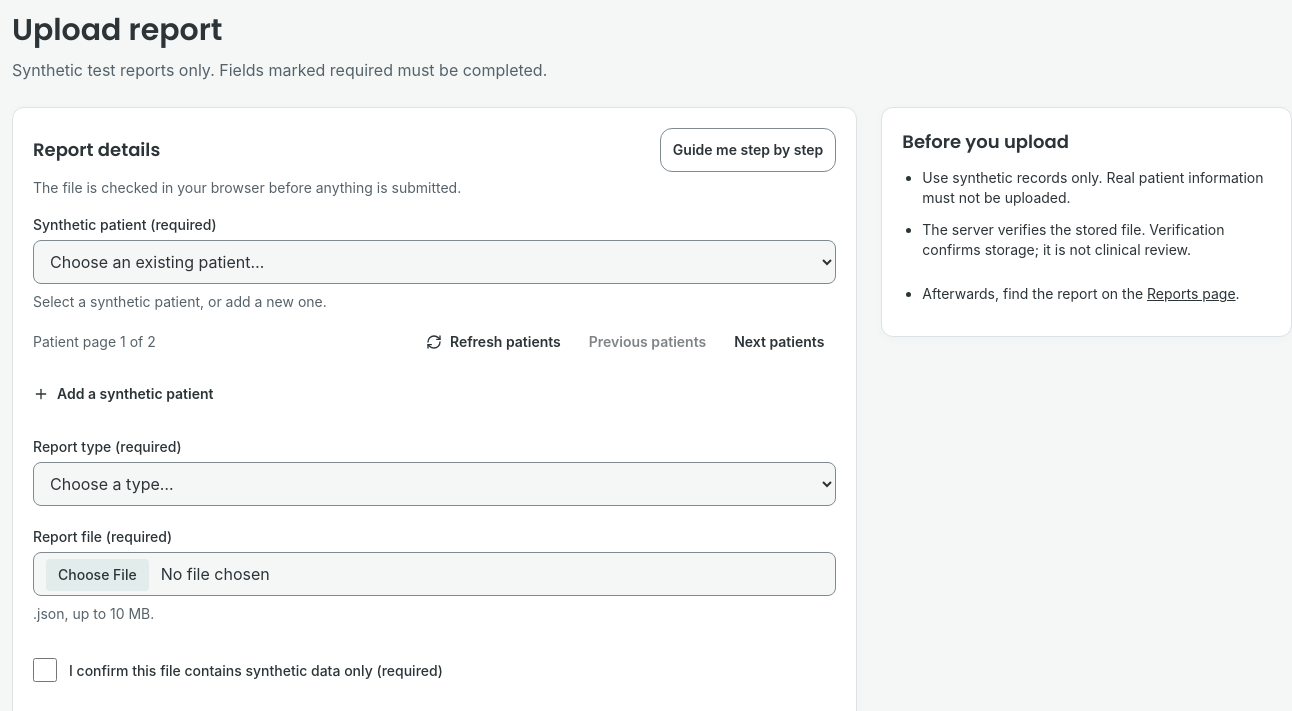
Test case: reports a list failure, preserves selection, and retries the requested page
Select "SYN-0001" in the dropdown labelled "Synthetic patient (required)". click: {"x": 435, "y": 262}
box: [33,240,836,284]
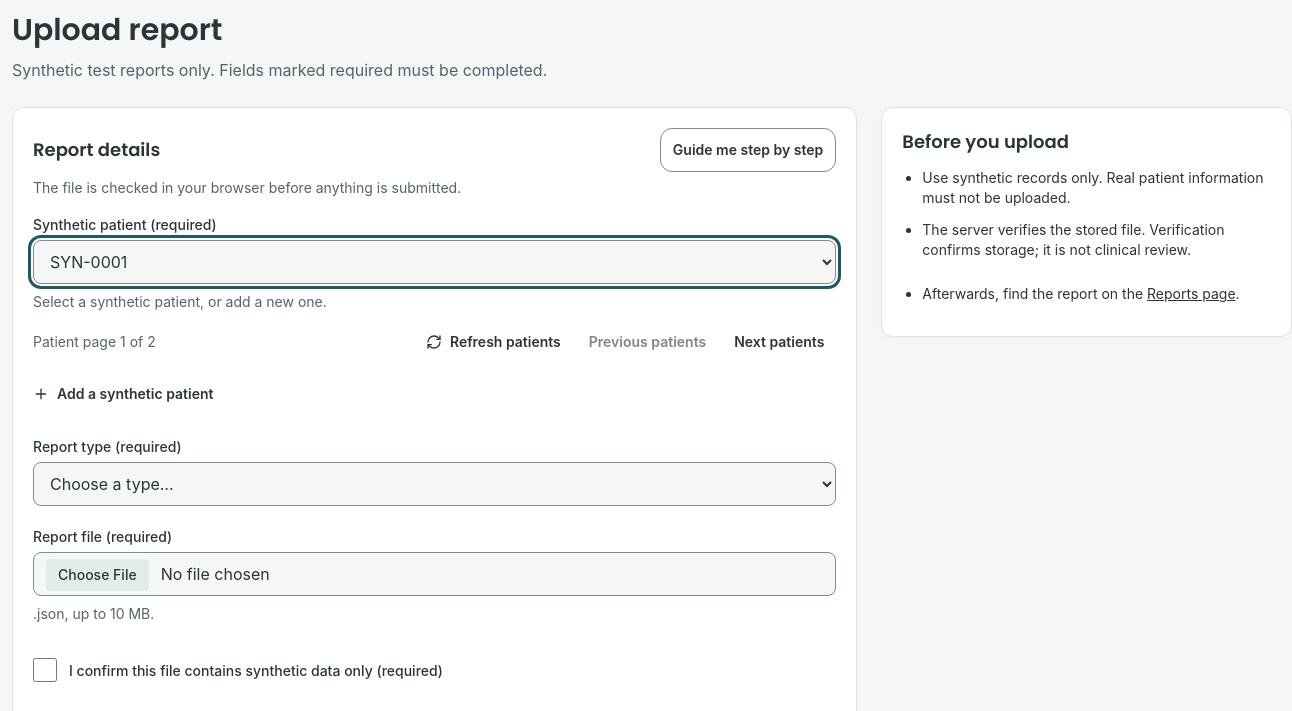
Click the button "Next patients". click: {"x": 779, "y": 342}
box: [722,320,836,364]
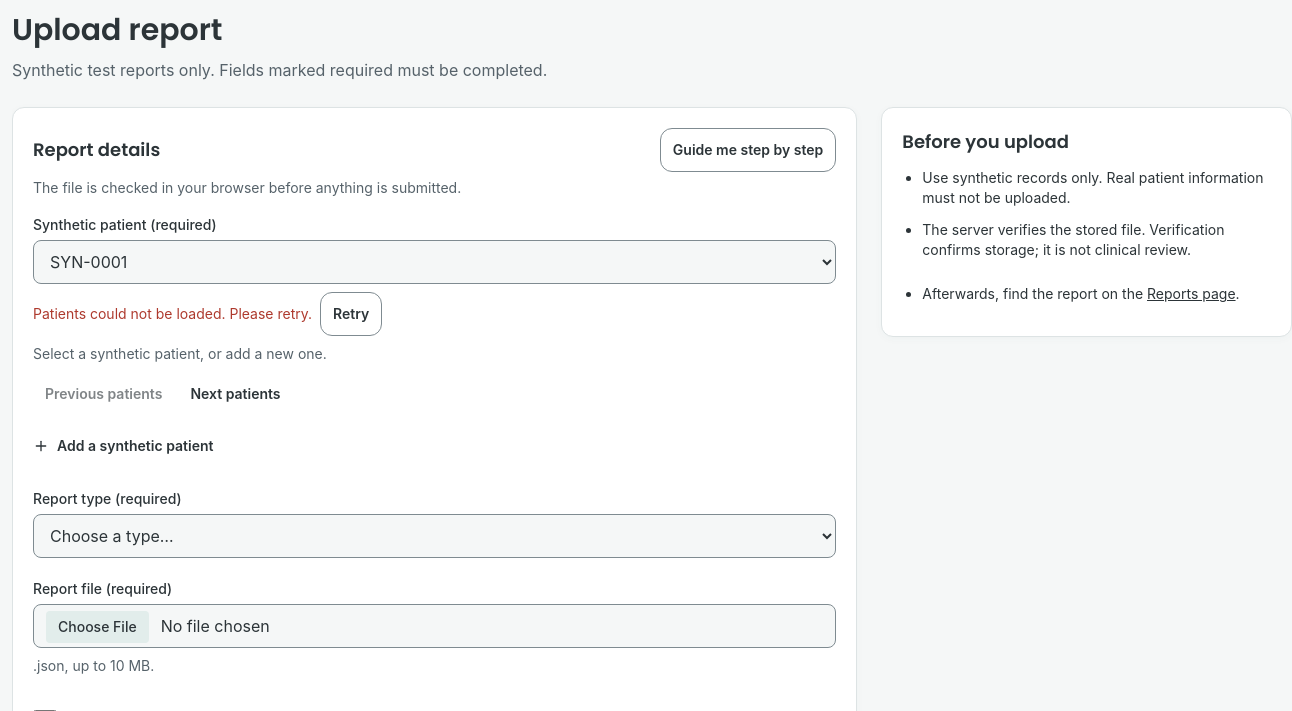
Result: the message shows "Patients could not be loaded" at [33,305,312,322]
Result: the button "Refresh patients" is gone
Click the button with aria-label "Retry loading patients". click: {"x": 351, "y": 314}
box: [320,292,382,336]
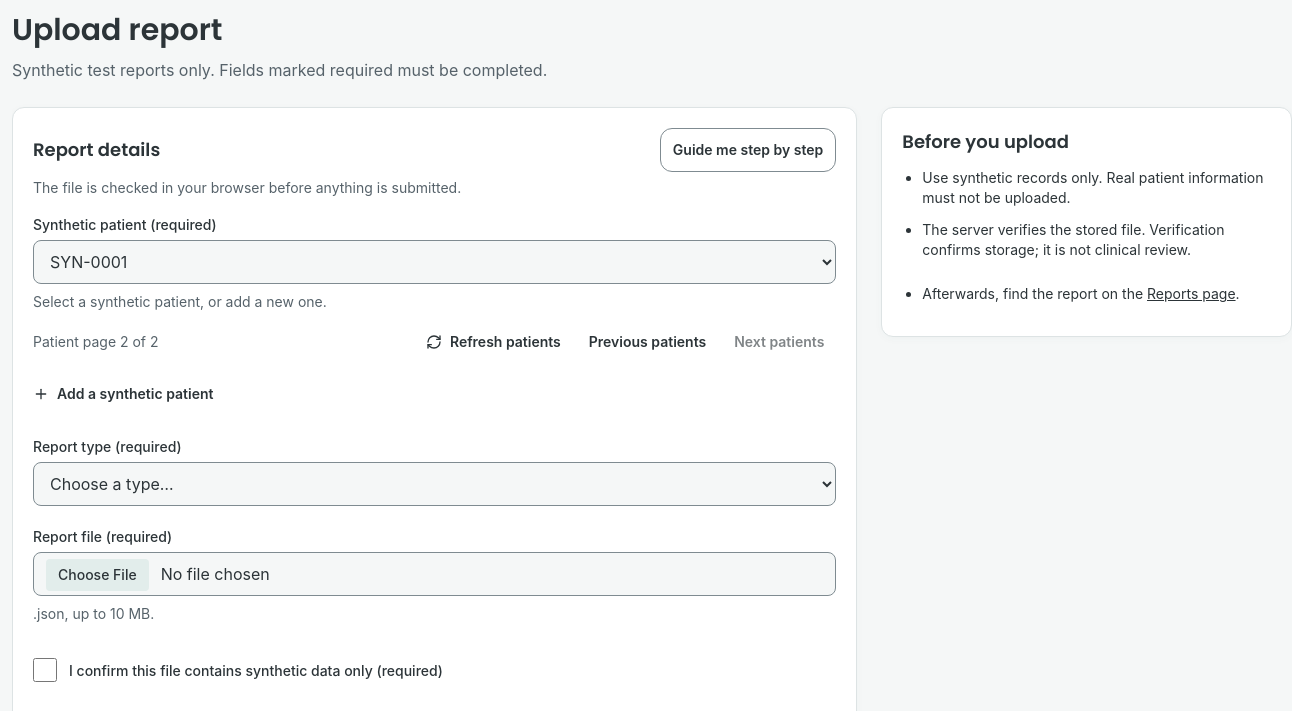
Result: the text "Patient page 2 of 2" is shown at [33,332,158,352]
